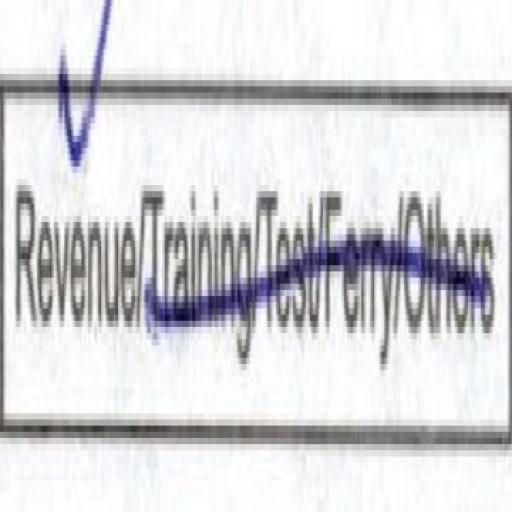check: (0, 26, 141, 435)
